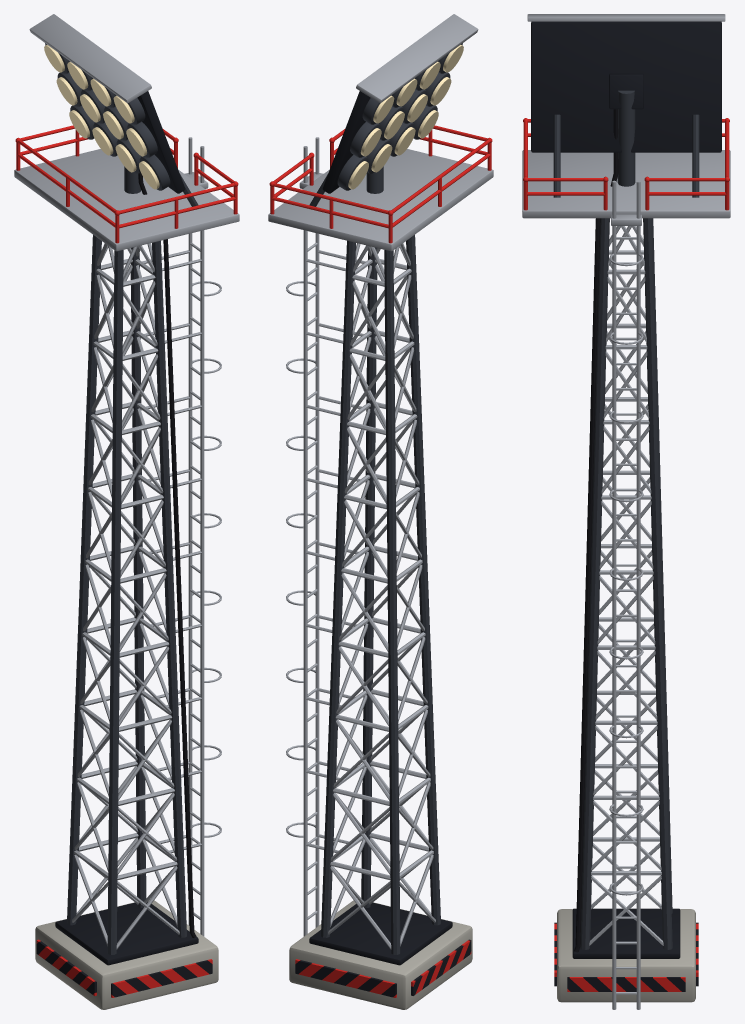
The model's file is A_FloodLight.fbx.
The picture shows the model from 3 angles, left to right: view 1: azimuth 30°, elevation 25°; view 2: azimuth 150°, elevation 25°; view 3: azimuth 270°, elevation 25°; orthographic projection.
Visible parts, largest first — view 1: Metal, Frame, Dark, Concrete, Accent, Glow, Rubber; view 2: Metal, Frame, Dark, Concrete, Accent, Glow; view 3: Metal, Dark, Frame, Concrete, Rubber, Accent.
Part boxes in pixels (box(x1,y1,x2,y2)): Metal: box(14, 14, 239, 949); Frame: box(45, 43, 198, 954); Dark: box(36, 91, 212, 997); Concrete: box(35, 900, 218, 1009); Accent: box(15, 125, 238, 997); Glow: box(44, 45, 159, 189); Rubber: box(138, 172, 196, 937); Metal: box(268, 14, 493, 949); Frame: box(309, 43, 462, 954); Dark: box(295, 91, 471, 997); Concrete: box(289, 900, 472, 1009); Accent: box(269, 125, 492, 997); Glow: box(348, 45, 463, 189); Metal: box(522, 14, 730, 1009); Dark: box(531, 21, 721, 991); Frame: box(553, 90, 699, 949); Concrete: box(557, 909, 695, 1002); Rubber: box(574, 109, 618, 952); Accent: box(523, 118, 729, 991).
Size of the model in its own units: 5.24 by 30.05 by 6.
